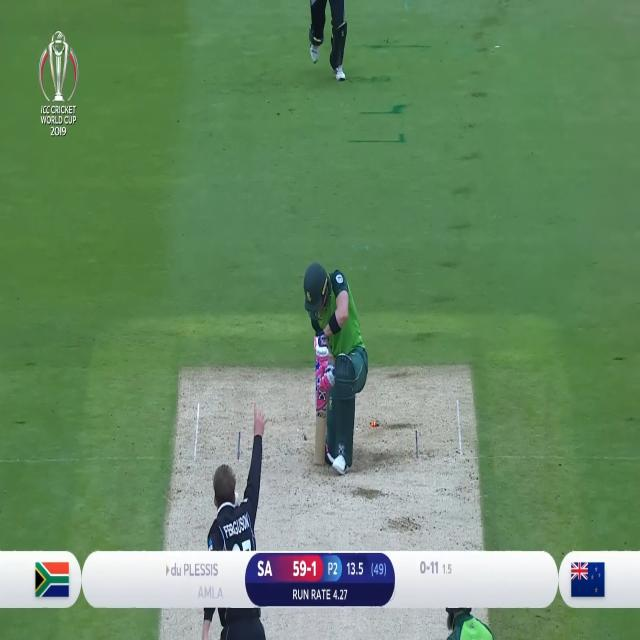ball: (235, 490, 238, 506)
